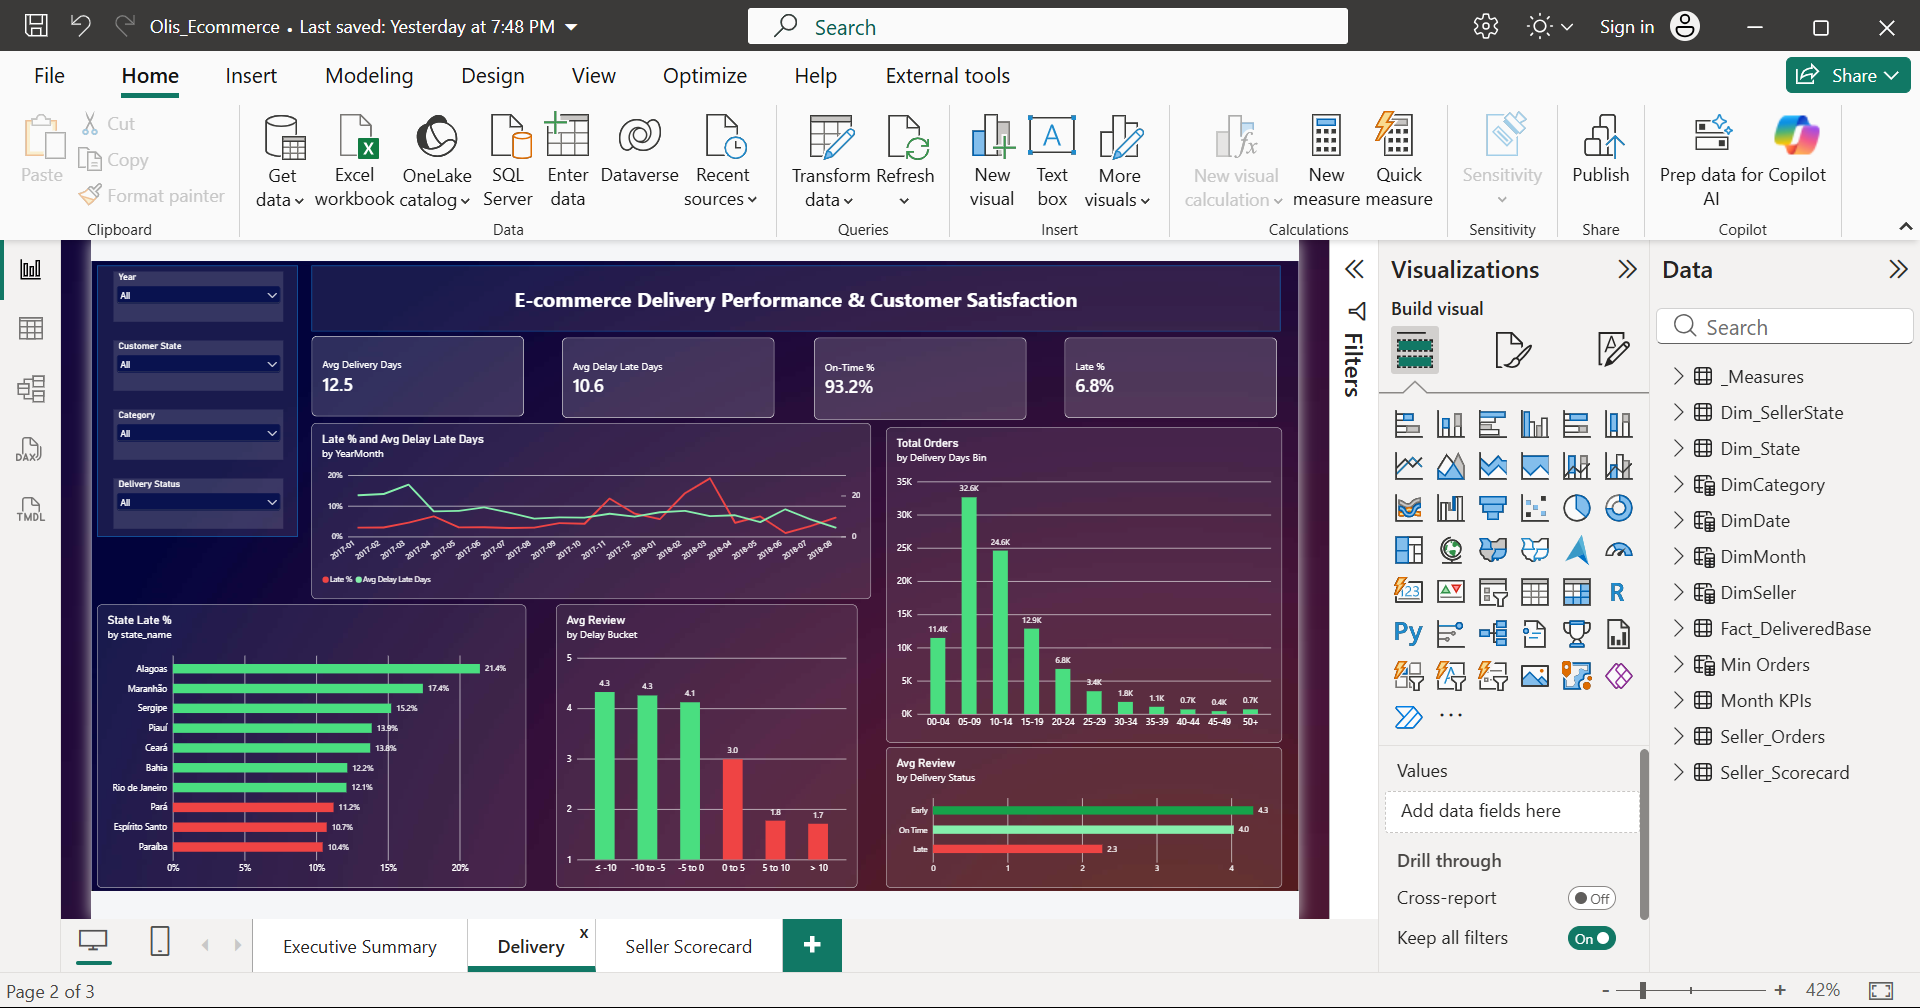

This screenshot's page, from the dashboard's own definition file:
{"tool":"powerbi","page":{"name":"Delivery","canvas":[1920,1080],"ordinal":1},"visuals":[{"type":"shape","box":[10,40.6,319.7,431.9],"z":0},{"type":"slicer","fields":{"Values":["DimDate.Year"]},"box":[35,50,270,80],"z":1000},{"type":"slicer","fields":{"Values":["Dim_State.state_name"]},"box":[35.8,160,270,80],"z":2000},{"type":"slicer","fields":{"Values":["DimCategory.category"]},"box":[35,270,270,80],"z":3000},{"type":"slicer","fields":{"Values":["Fact_DeliveredBase.Delivery Status"]},"box":[35,380,270,80],"z":4000},{"type":"cardVisual","fields":{"Data":["_Measures.Avg Delay Late Days"]},"box":[750,155.1,338,128.8],"z":5000},{"type":"cardVisual","fields":{"Data":["_Measures.Avg Delivery"]},"box":[350.7,152.7,338,128.8],"z":6000},{"type":"cardVisual","fields":{"Data":["_Measures.Late %"]},"box":[1549,155.1,338.8,128.8],"z":7000},{"type":"cardVisual","fields":{"Data":["_Measures.On-Time %"]},"box":[1150,155.1,338,131.2],"z":8000},{"type":"lineChart","fields":{"Category":["DimDate.YearMonth"],"Y":["_Measures.Late %"],"Y2":["_Measures.Avg Delay Late Days"]},"box":[350.7,292,890,280],"z":9000},{"type":"clusteredColumnChart","fields":{"Category":["Fact_DeliveredBase.Delivery Days Bin"],"Y":["Fact_DeliveredBase.Total Orders"]},"box":[1264.5,298,629.9,501],"z":10000},{"type":"clusteredBarChart","fields":{"Category":["Dim_State.state_name"],"Y":["_Measures.State Late %"]},"box":[9.5,580,682.4,450.9],"z":11000},{"type":"clusteredColumnChart","fields":{"Category":["Fact_DeliveredBase.Delay Bucket"],"Y":["_Measures.Avg Review"]},"box":[739.6,580,479.6,450.9],"z":12000},{"type":"barChart","fields":{"Category":["Fact_DeliveredBase.Delivery Status"],"Y":["_Measures.Avg Review"]},"box":[1264.5,806,629.9,224.3],"z":13000},{"type":"shape","box":[350.7,40.6,1541.3,105],"z":13001}]}

Visuals, with their boxes on the page's 1920x1080 design canvas (x1, y1, x2, y2). These are canvas units, not pixel positions in the 1920x1008 screenshot, which may show the page scaled, cropped or inside an application window:
shape: Rect(10, 41, 330, 472)
slicer - DimDate.Year: Rect(35, 50, 305, 130)
slicer - Dim_State.state_name: Rect(36, 160, 306, 240)
slicer - DimCategory.category: Rect(35, 270, 305, 350)
slicer - Fact_DeliveredBase.Delivery Status: Rect(35, 380, 305, 460)
cardVisual - _Measures.Avg Delay Late Days: Rect(750, 155, 1088, 284)
cardVisual - _Measures.Avg Delivery: Rect(351, 153, 689, 282)
cardVisual - _Measures.Late %: Rect(1549, 155, 1888, 284)
cardVisual - _Measures.On-Time %: Rect(1150, 155, 1488, 286)
lineChart - DimDate.YearMonth x _Measures.Late %: Rect(351, 292, 1241, 572)
clusteredColumnChart - Fact_DeliveredBase.Delivery Days Bin x Fact_DeliveredBase.Total Orders: Rect(1264, 298, 1894, 799)
clusteredBarChart - Dim_State.state_name x _Measures.State Late %: Rect(10, 580, 692, 1031)
clusteredColumnChart - Fact_DeliveredBase.Delay Bucket x _Measures.Avg Review: Rect(740, 580, 1219, 1031)
barChart - Fact_DeliveredBase.Delivery Status x _Measures.Avg Review: Rect(1264, 806, 1894, 1030)
shape: Rect(351, 41, 1892, 146)
